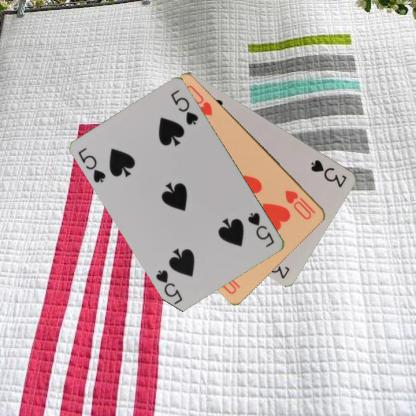10h: (283, 187, 317, 221)
3s: (308, 157, 349, 189)
5s: (76, 145, 108, 184), (245, 210, 276, 248)
